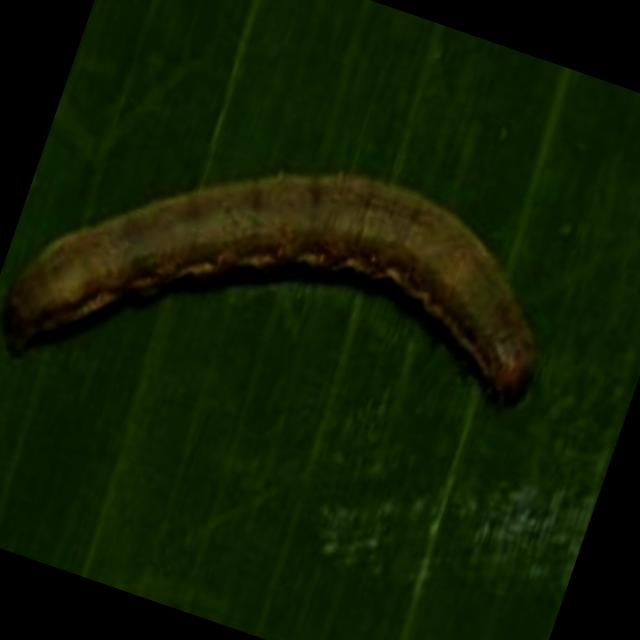Tobacco cutworm: (0, 18, 637, 571)
